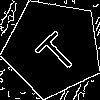T: (27, 22, 81, 77)
